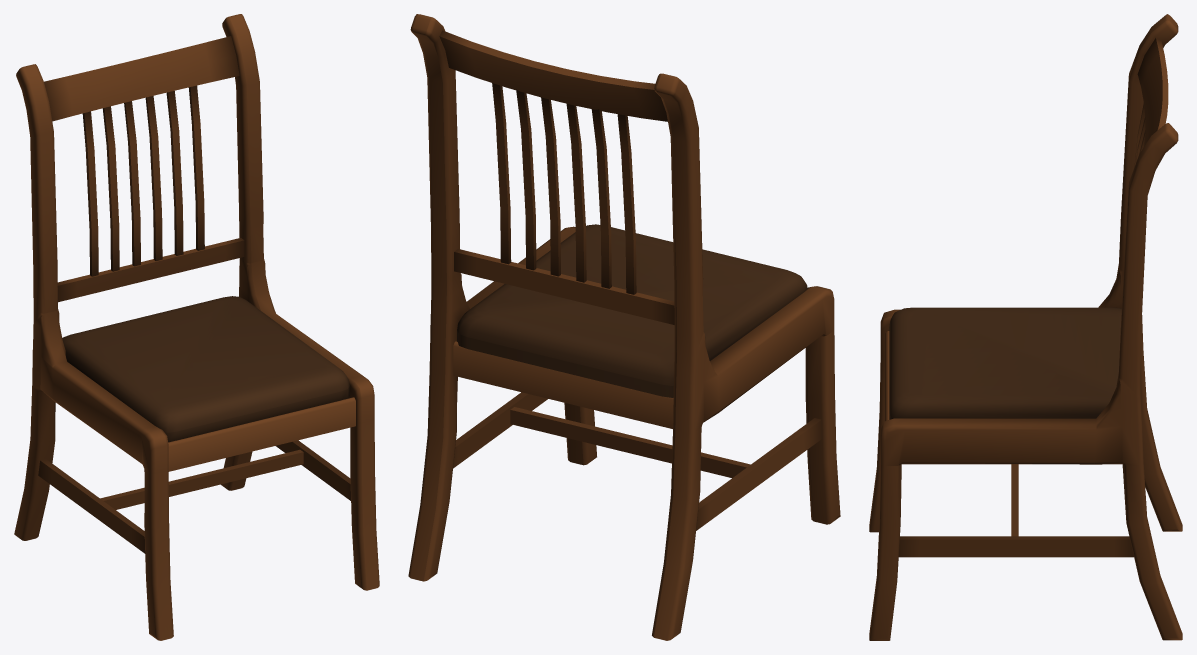
The model's file is DiningChairSlotted01.fbx.
3 renders of one model, left to right at view 1: azimuth 30°, elevation 25°; view 2: azimuth 150°, elevation 25°; view 3: azimuth 270°, elevation 25°, orthographic. The views are drawn at different scales.
Parts seen in each view (by area): view 1: DiningChairSlotted01 1; view 2: DiningChairSlotted01 1; view 3: DiningChairSlotted01 1.
Part boxes in pixels (x1,y1,x2,y2): DiningChairSlotted01 1: [14, 14, 379, 640]; DiningChairSlotted01 1: [408, 14, 840, 640]; DiningChairSlotted01 1: [869, 14, 1182, 640].
Size of the model in its own units: 0.4974 by 1 by 0.5581.
